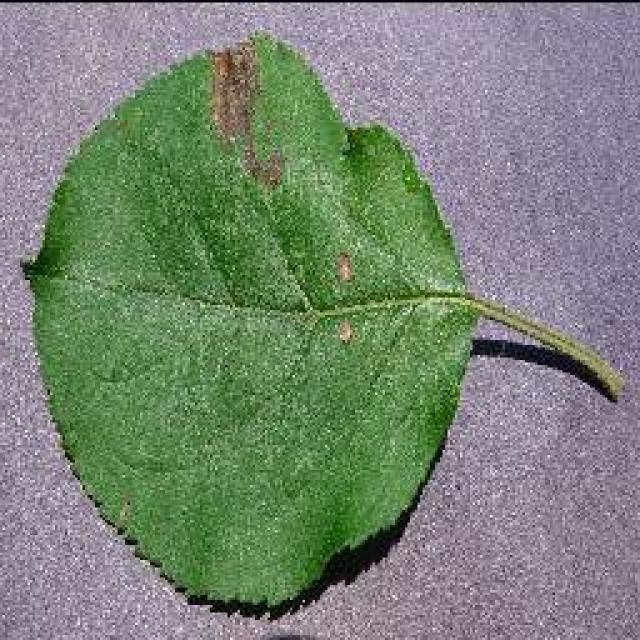Black_rot: (17, 28, 625, 620)
